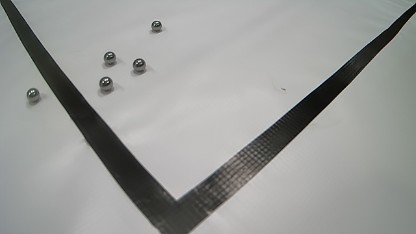ironball: (26, 87, 40, 102), (99, 76, 113, 91), (132, 58, 146, 72), (103, 51, 116, 64), (151, 20, 162, 31)
